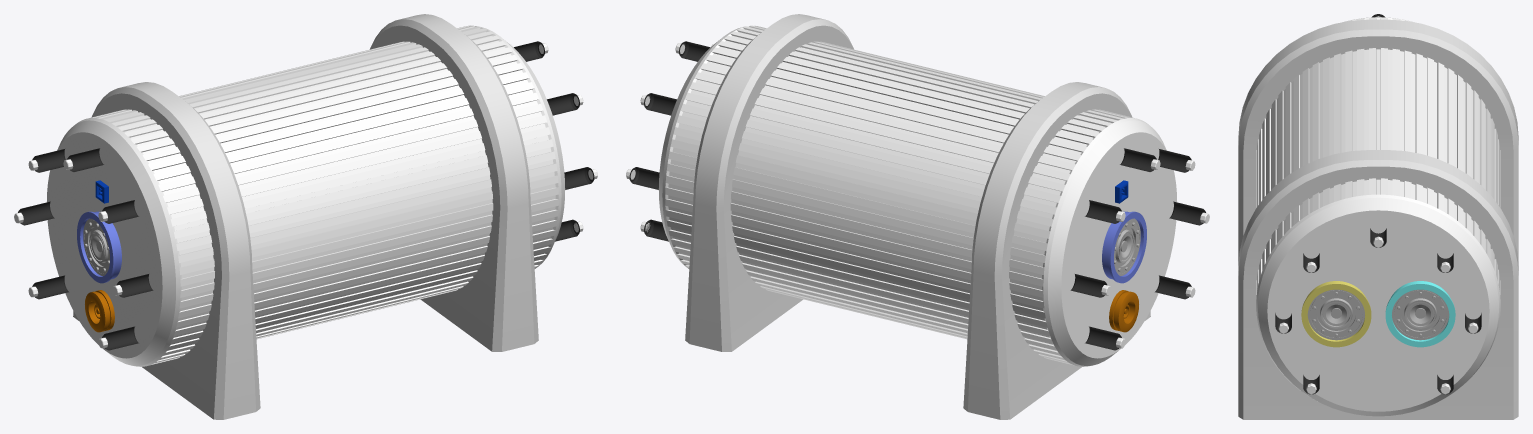
File: Electrolyser.gltf
The picture shows the model from 3 angles, left to right: view 1: azimuth 30°, elevation 25°; view 2: azimuth 150°, elevation 25°; view 3: azimuth 270°, elevation 25°; orthographic projection. The views are drawn at different scales.
Visible parts, largest first — view 1: base; view 2: base; view 3: base.
Part boxes in pixels (x1,y1,x2,y2): base: [14, 14, 597, 419]; base: [626, 14, 1209, 419]; base: [1238, 14, 1518, 419].
Bounding box in the file's own units: 1.9 × 1 × 1.
